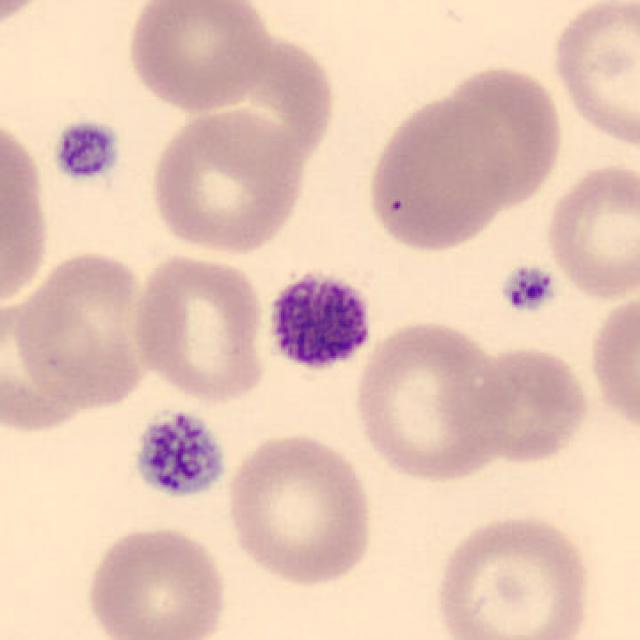Platelets: (261, 266, 377, 376), (128, 406, 229, 502), (49, 116, 122, 185), (496, 262, 560, 316)
RBC: (348, 315, 514, 485), (5, 245, 160, 418), (220, 428, 377, 589), (146, 102, 308, 258), (178, 31, 332, 185), (364, 92, 510, 254), (128, 249, 272, 407), (430, 509, 595, 640), (437, 62, 567, 208), (82, 522, 231, 640), (123, 0, 272, 115), (462, 342, 594, 467), (0, 282, 98, 441), (540, 157, 638, 303), (547, 0, 638, 153), (0, 111, 53, 315), (585, 286, 640, 440), (0, 0, 55, 41)
